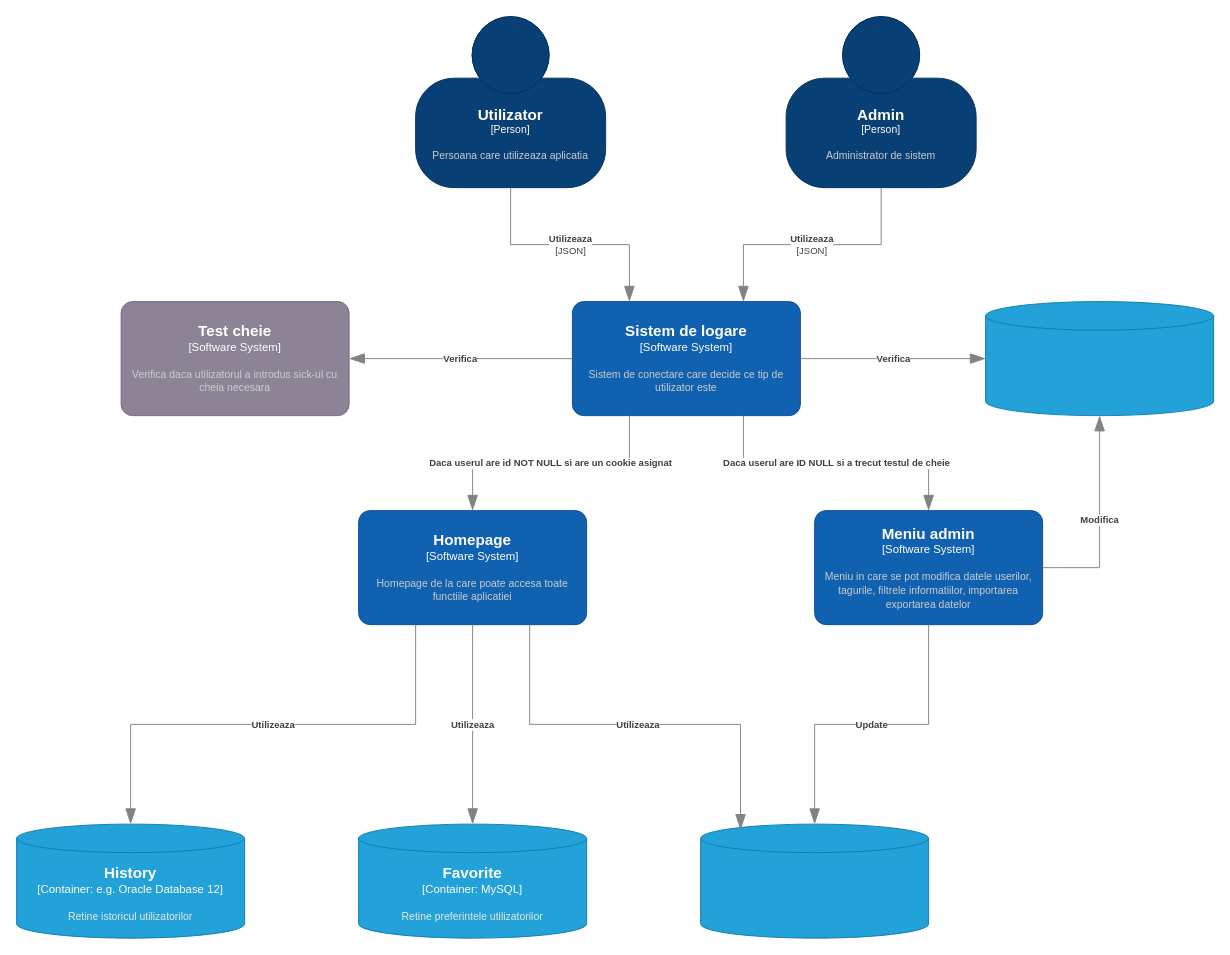
Image size: 1230x955. Some labels were removed from this diagram. Each missing label, with the centre of its shape:
"Informatii [Container: MySQL] Retine informatiile si filtrele acestora" goes at point 814,880.
"Users [Container: MySQL] Baza de date cu utilizatori, cu parole criptate" goes at point 1099,358.
